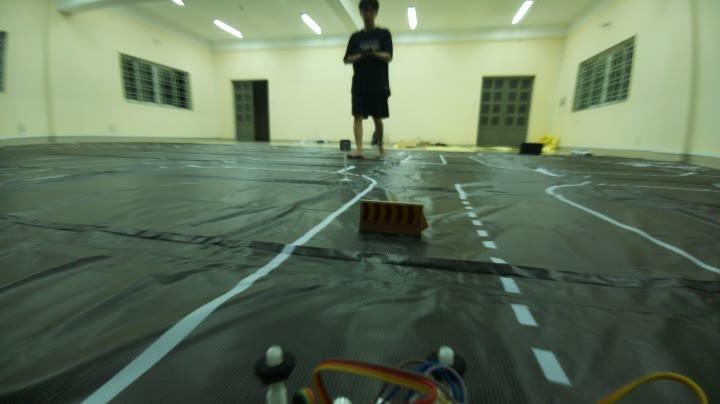roadblock: (353, 194, 440, 246)
